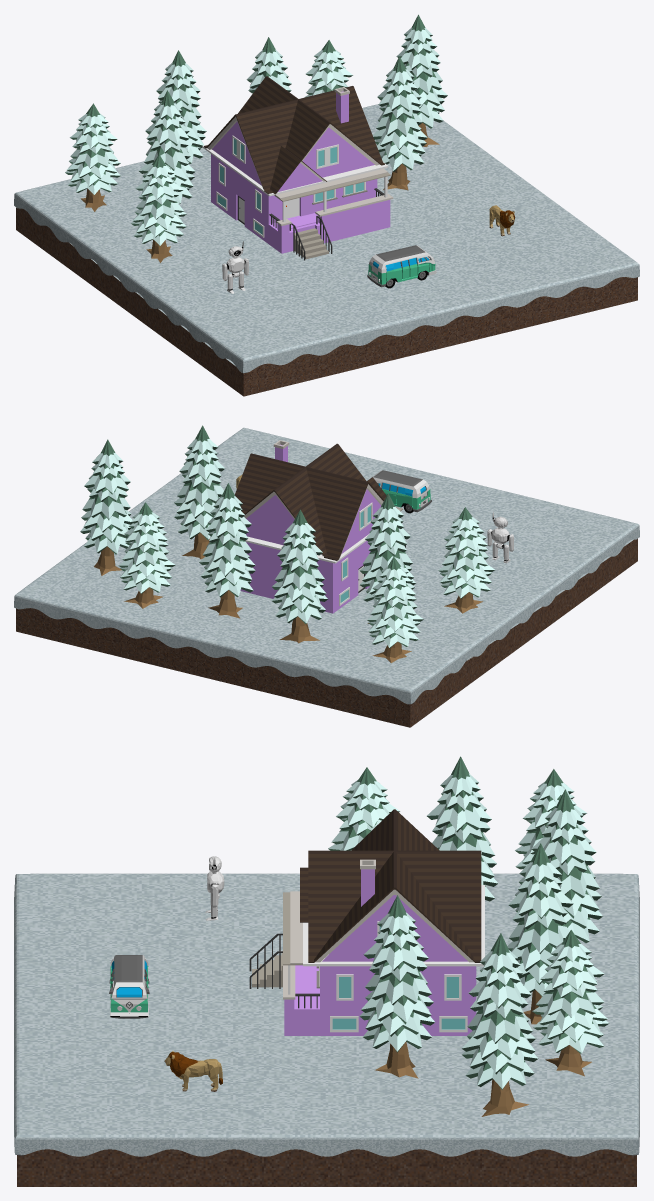
The picture shows the model from 3 angles, top to bottom: view 1: azimuth 30°, elevation 25°; view 2: azimuth 150°, elevation 25°; view 3: azimuth 270°, elevation 25°; orthographic projection. The views are drawn at different scales.
Parts seen in each view (by area): view 1: Cube.003, Cube.391, VEHICLES_VAN, OBJRANDOM_PLATZEEBOT; view 2: Cube.003, Cube.391, VEHICLES_VAN, OBJRANDOM_PLATZEEBOT; view 3: Cube.003, Cube.391, VEHICLES_VAN, ANIMAL_LEON, OBJRANDOM_PLATZEEBOT.
Part boxes in pixels (box(x1,y1,x2,y2)): Cube.003: box(14, 14, 639, 396); Cube.391: box(202, 76, 393, 260); VEHICLES_VAN: box(367, 245, 436, 288); OBJRANDOM_PLATZEEBOT: box(222, 241, 248, 293); Cube.003: box(14, 425, 639, 727); Cube.391: box(235, 440, 405, 613); VEHICLES_VAN: box(372, 470, 431, 513); OBJRANDOM_PLATZEEBOT: box(487, 512, 513, 563); Cube.003: box(14, 756, 639, 1186); Cube.391: box(249, 809, 484, 1035); VEHICLES_VAN: box(109, 955, 149, 1018); ANIMAL_LEON: box(164, 1051, 222, 1091); OBJRANDOM_PLATZEEBOT: box(205, 856, 224, 920).
Size of the model in its own units: 4040 by 1692 by 4040.
Materials: 35 (3 with a texture image).
